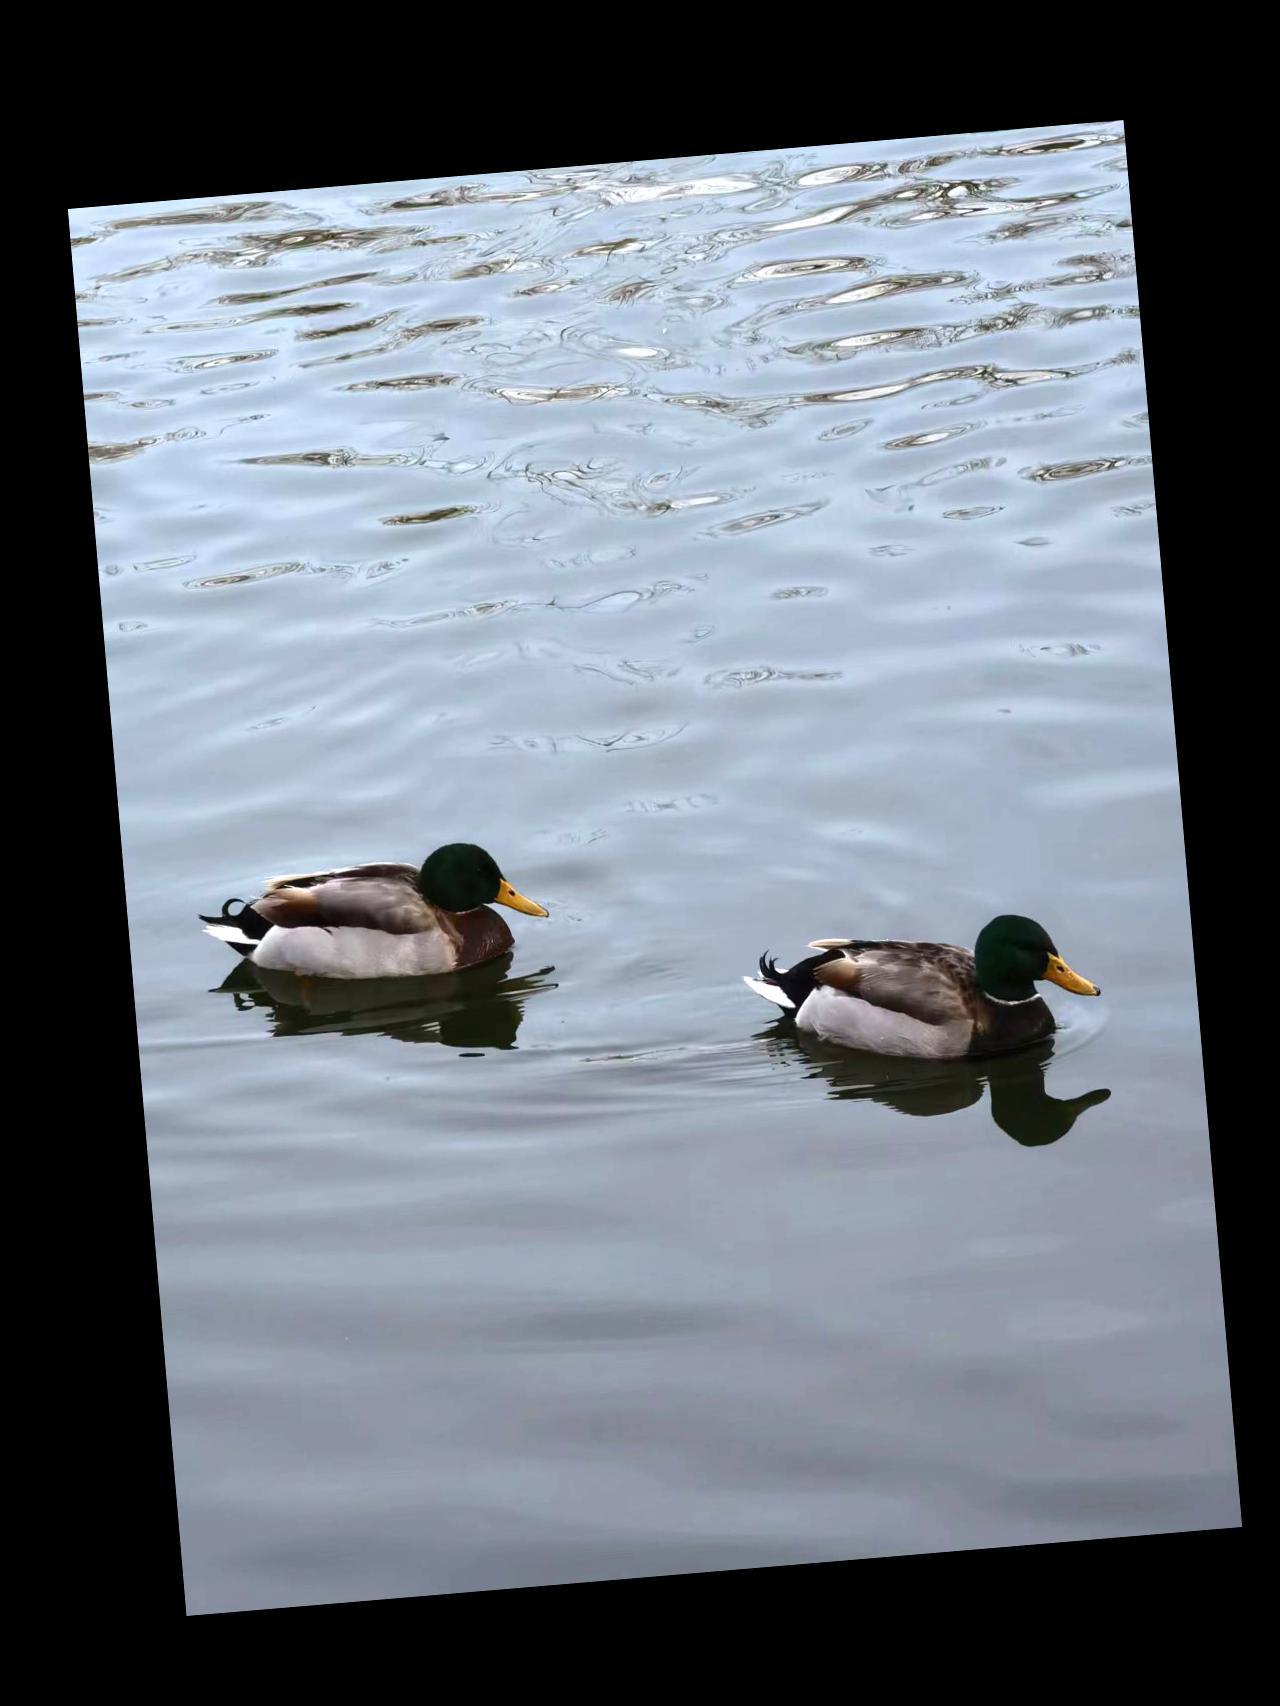duck: (188, 807, 567, 1046), (722, 877, 1107, 1088)
